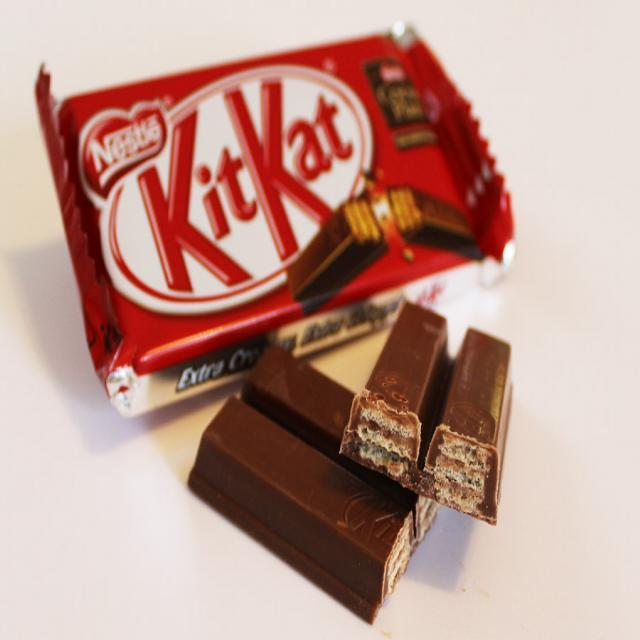Chocolate bar: (32, 16, 522, 404)
Chocolate bar packaged: (193, 341, 465, 625), (346, 295, 514, 531)
